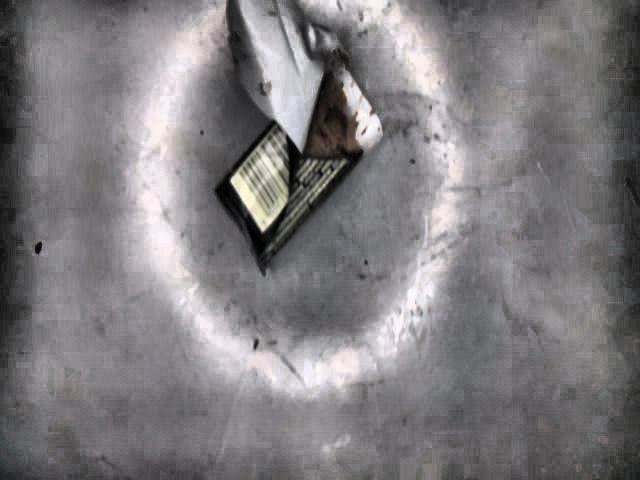Almennt: (303, 69, 362, 156)
Plastic: (215, 0, 359, 271)
